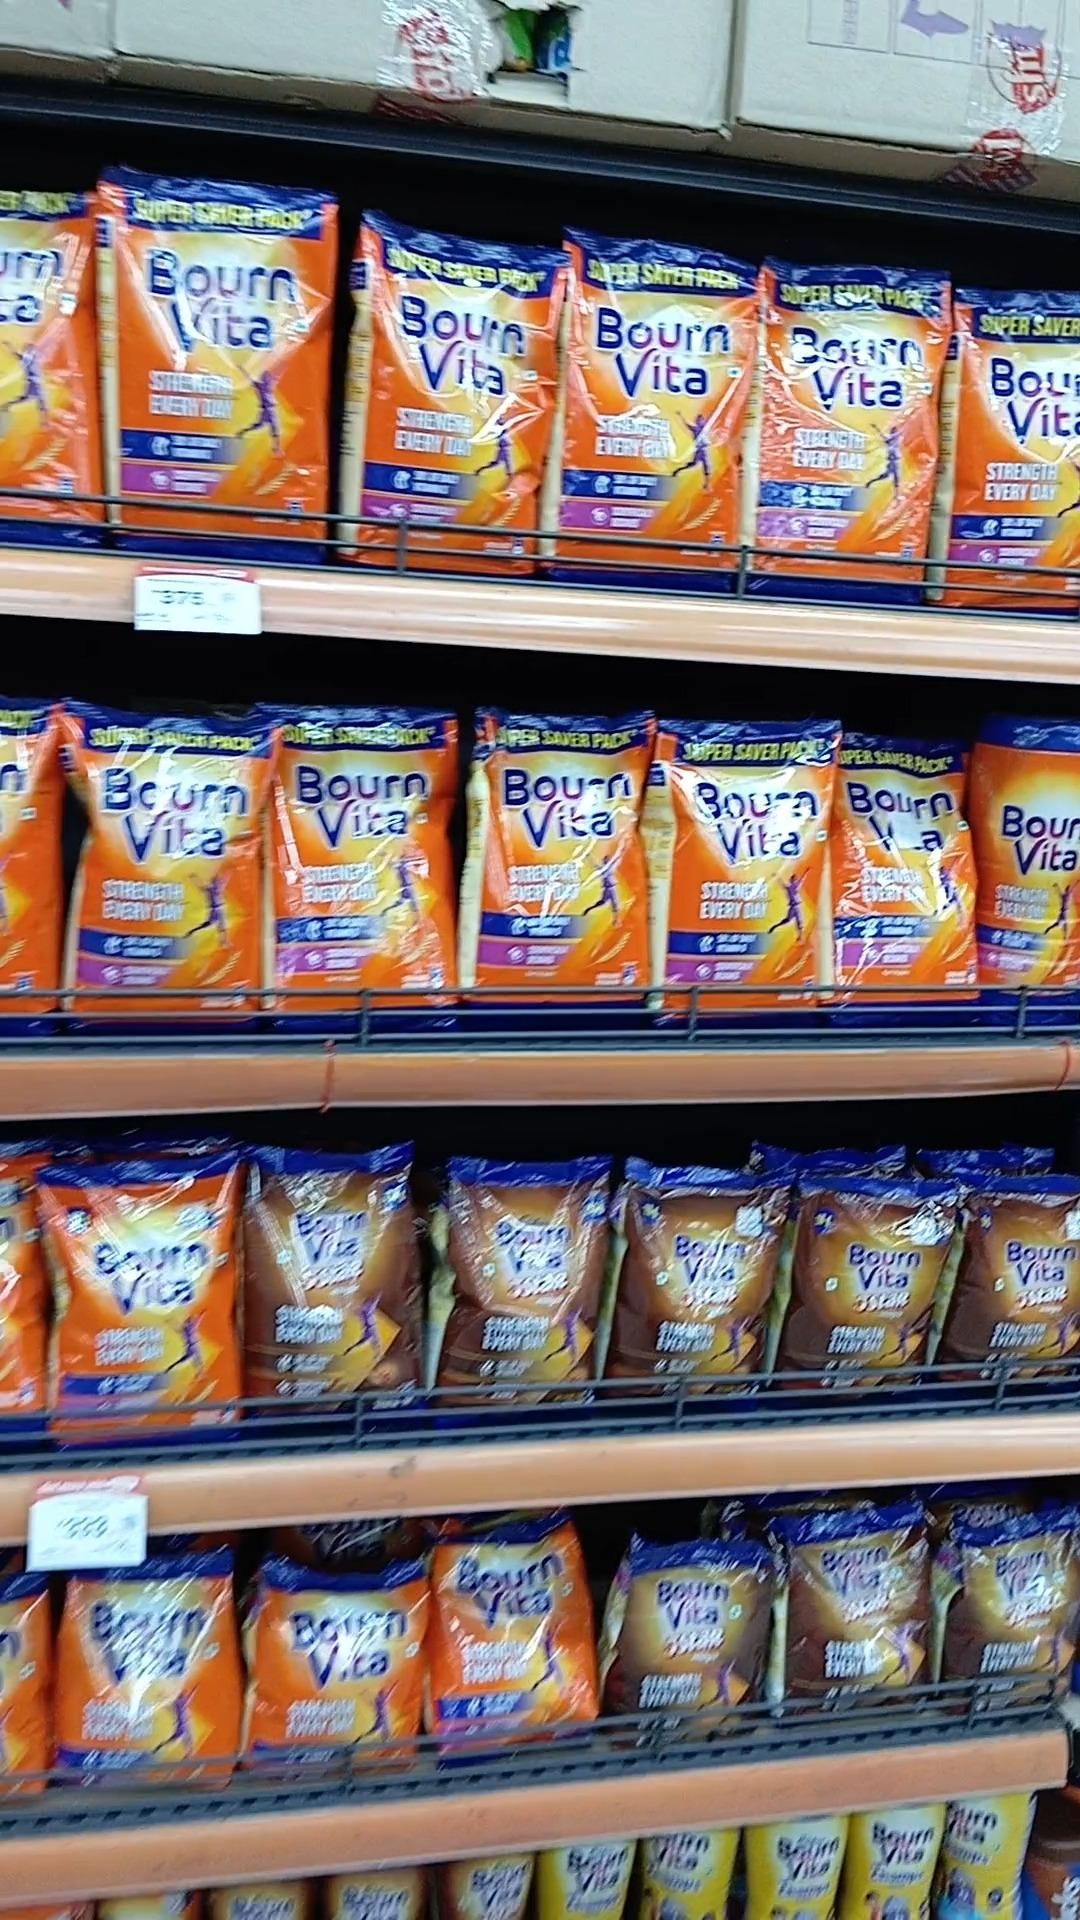BOURN_VITA_1_KG_JAR: (982, 713, 1080, 1040)
BOURN_VITA_1_KG_POUCH: (108, 167, 330, 553), (51, 705, 262, 1047), (556, 236, 740, 600), (274, 700, 460, 1047), (357, 218, 538, 574), (750, 258, 926, 608), (472, 713, 653, 1043), (665, 724, 831, 1046), (836, 732, 986, 1035), (951, 286, 1080, 612)
BOURN_VITA_500_G_POUCH: (62, 1559, 225, 1813), (247, 1561, 423, 1788), (436, 1530, 596, 1770)
BOURN_VITA_750_G_POUCH: (42, 1159, 237, 1461)
BOURN_VITA_CHAMPS_500_G_JAR: (849, 1799, 934, 1920), (943, 1793, 1014, 1920)
BOURN_VITA_FIVE_STAR_MAGIC_500_G_POUCH: (775, 1498, 919, 1727), (621, 1553, 766, 1756), (960, 1526, 1080, 1724)
BOURN_VITA_FIVE_STAR_MAGIC_750_G_POUCH: (249, 1150, 419, 1428), (613, 1167, 778, 1423), (436, 1167, 593, 1431), (790, 1187, 944, 1416), (955, 1178, 1080, 1412)
